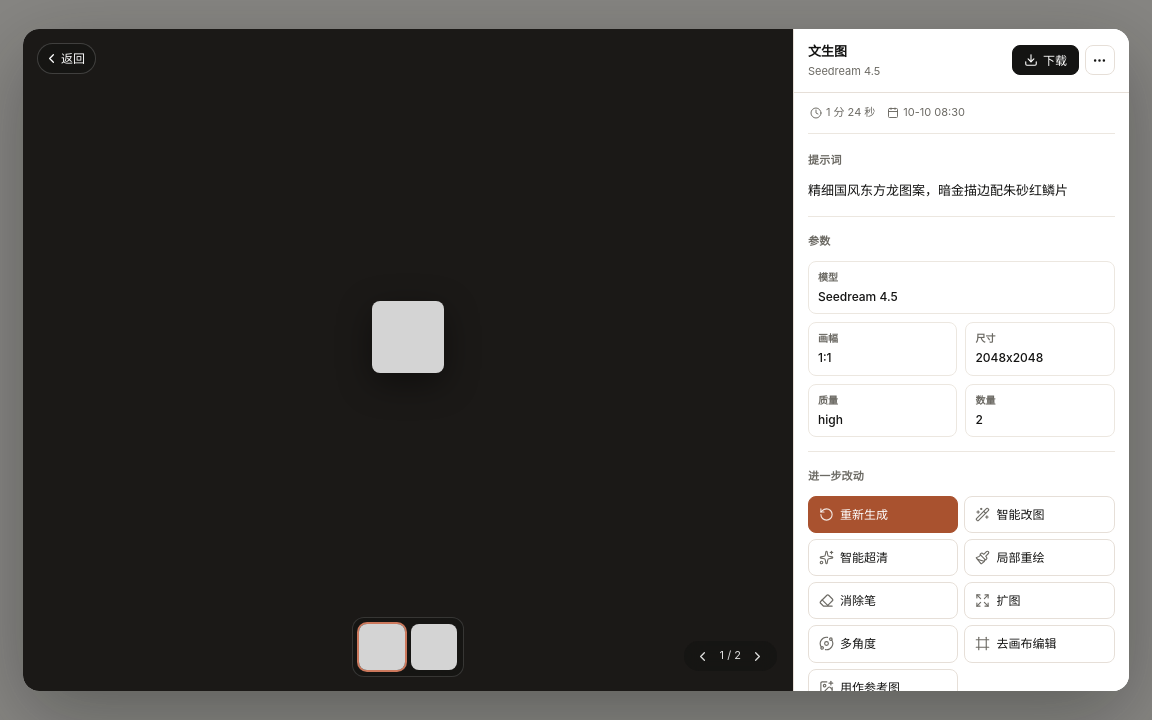
it: AssetDetailPane › disables the import entry once the asset is already in the project library
Click the button named "更多操作" at x=1100, y=60, box [1085,46,1115,76]
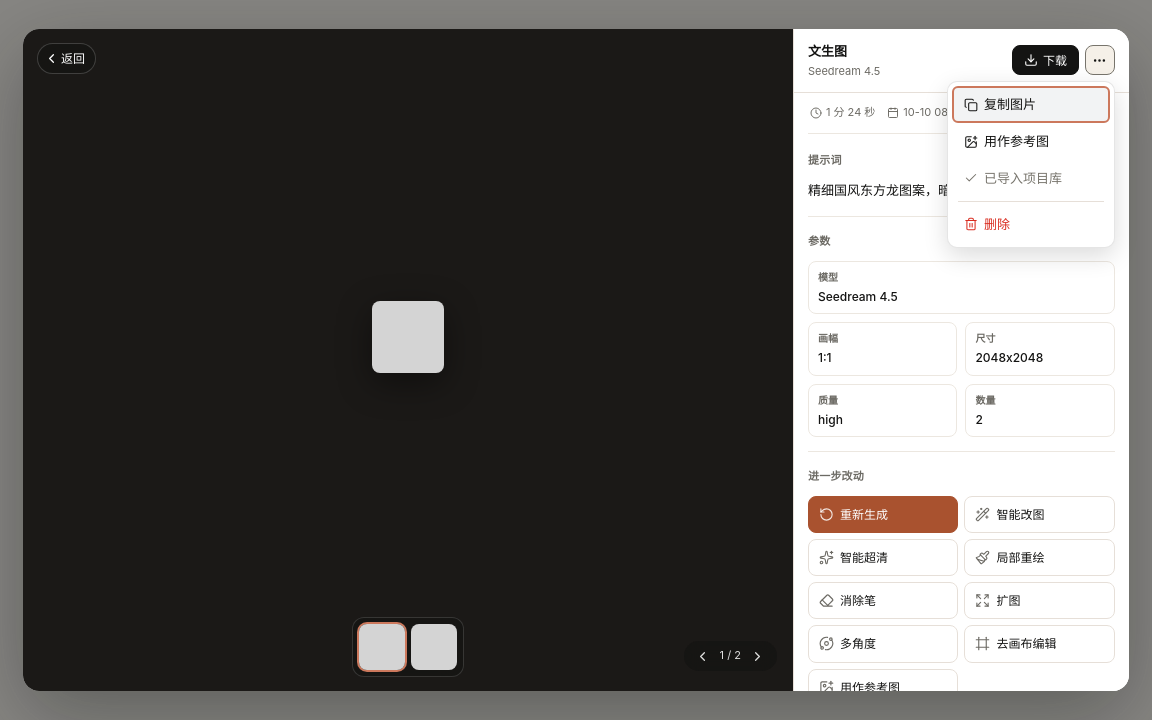
Check: the button "已导入项目库" is disabled, box [952,160,1110,197]
